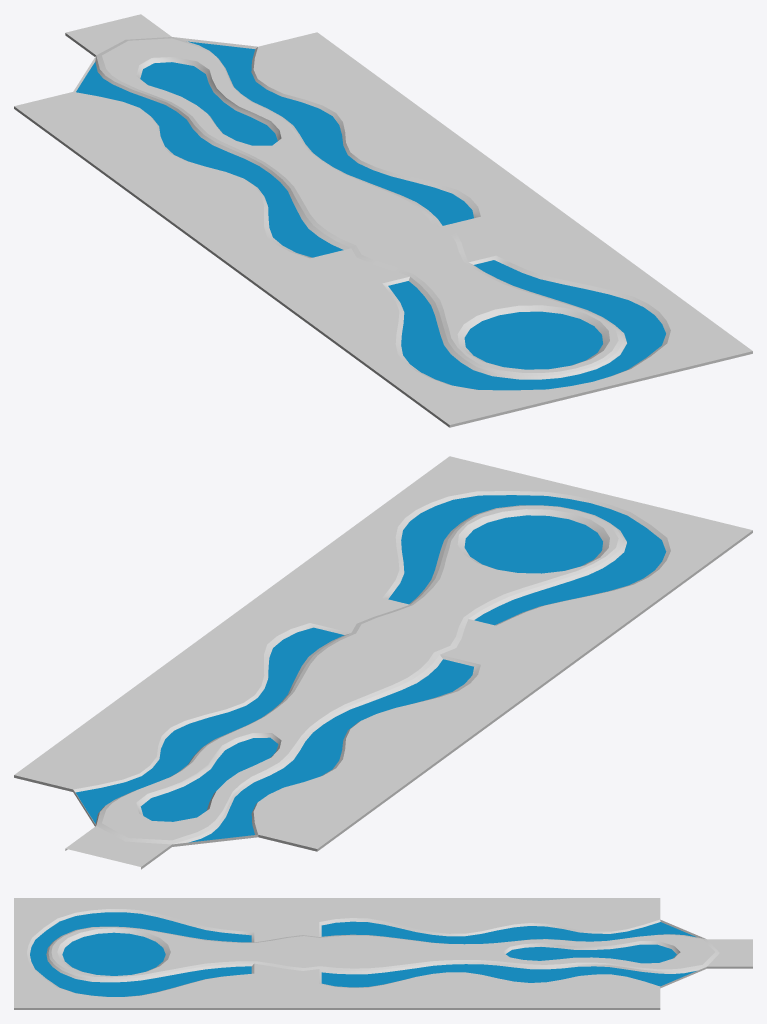
File: mainground.FBX
3 views of the same model, one above another, from view 1: azimuth 30°, elevation 25°; view 2: azimuth 150°, elevation 25°; view 3: azimuth 270°, elevation 25° (orthographic). The views are drawn at different scales.
Visible parts, largest first — view 1: Group054; view 2: Group054; view 3: Group054.
Part boxes in pixels (x1,y1,x2,y2): Group054: (14,14,752,427); Group054: (14,456,752,869); Group054: (14,898,752,1009).
Bounding box in the file's own units: 1034 × 12.74 × 2942.
